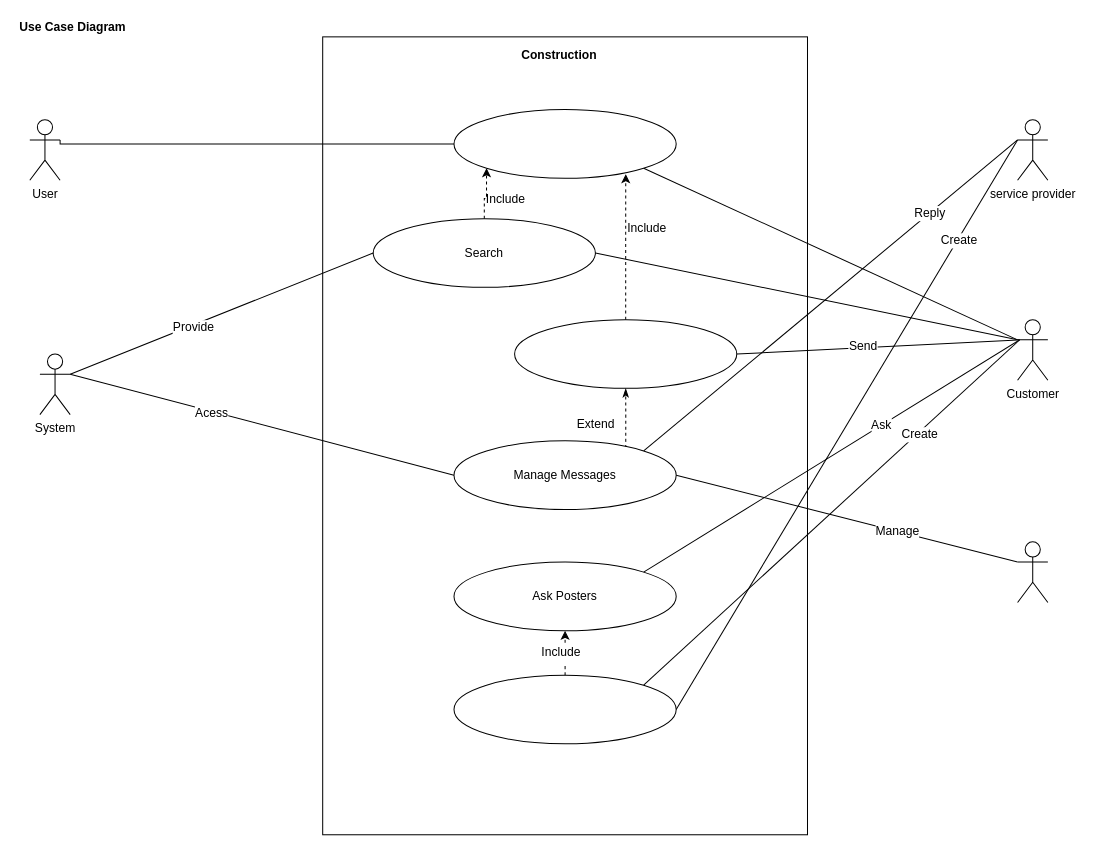
Image size: 1094x852. Some labels were removed from this diagram. Each missing label, with the centre of its shape:
Create Posters: point (564, 709)
Message Center: point (1032, 571)
Register: point (564, 143)
Send Messages: point (625, 353)
